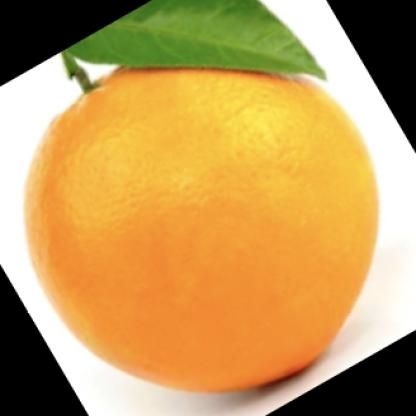fresh: (23, 56, 384, 390)
